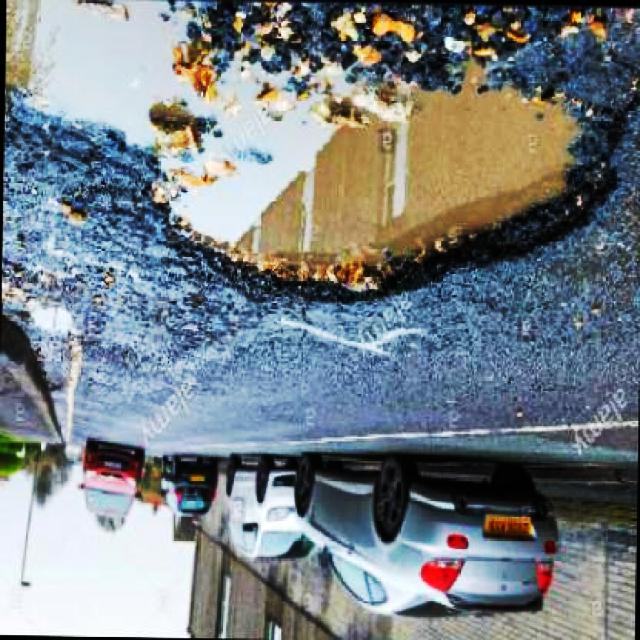pothole: (12, 0, 627, 298), (0, 258, 89, 340)
